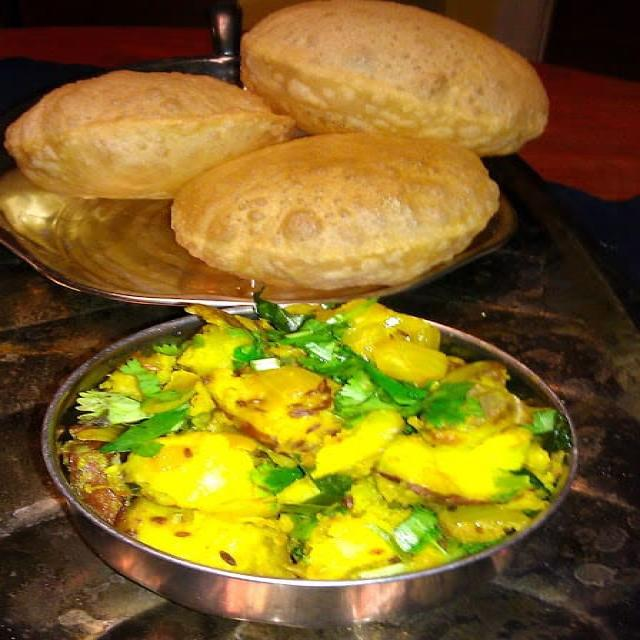poori: (166, 128, 516, 288), (232, 0, 565, 157), (6, 54, 290, 213)
